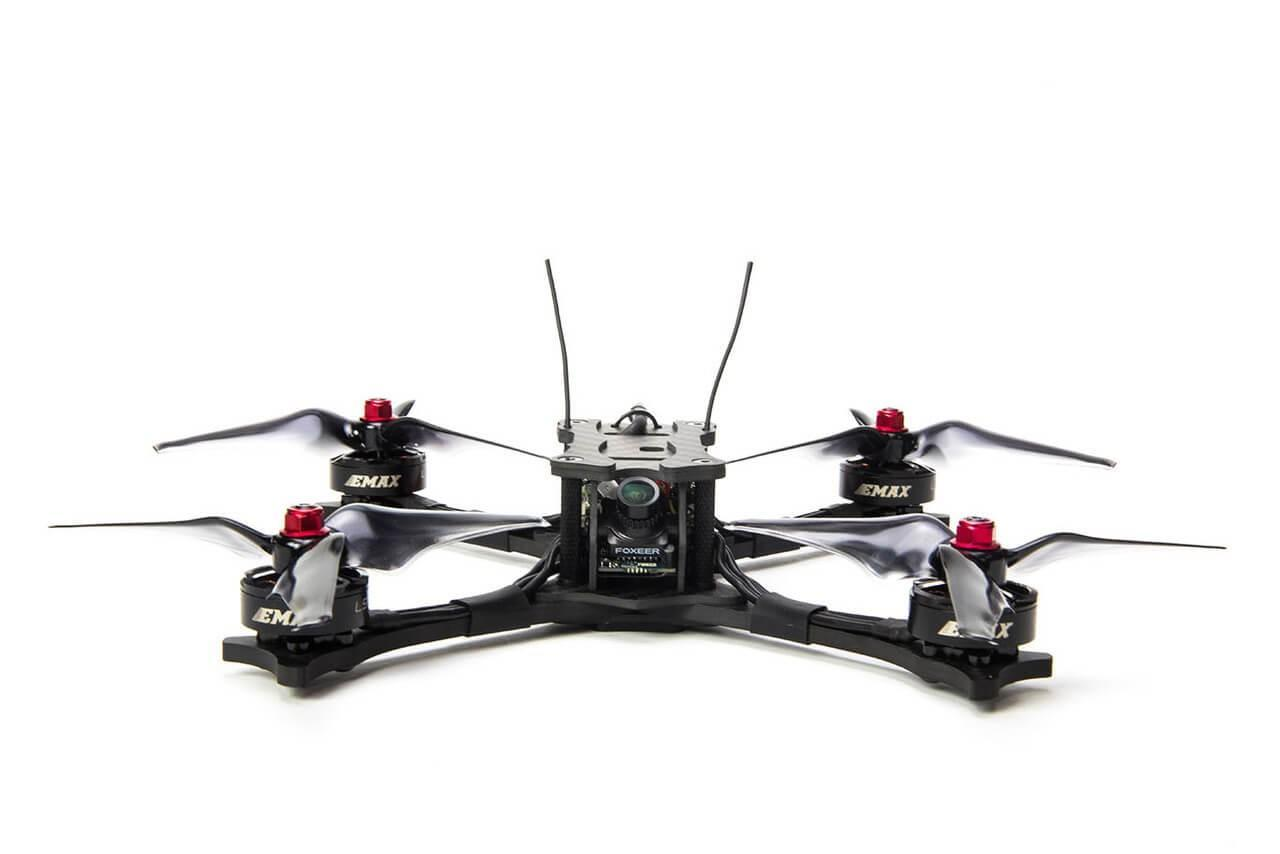drone: (67, 394, 1235, 722)
